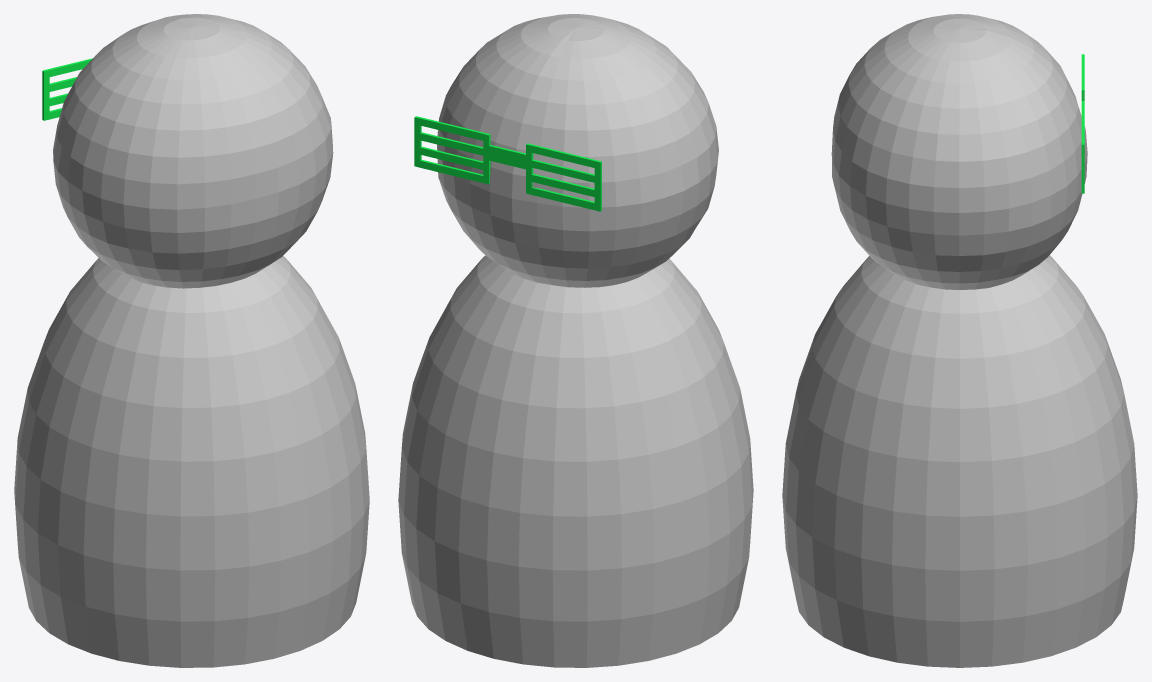
File: Cookie doll.fbx
3 renders of one model, left to right at view 1: azimuth 30°, elevation 25°; view 2: azimuth 150°, elevation 25°; view 3: azimuth 270°, elevation 25°, orthographic.
Parts seen in each view (by area): view 1: Sphere.001, Sphere; view 2: Sphere.001, Sphere, Cube.013, Cube.004, Cube.009, Cube.003, Cube.010, Cube.012, Cube.002, Cube.011, Cube.001; view 3: Sphere.001, Sphere.
Part boxes in pixels (x1,y1,x2,y2): Sphere.001: (14, 255, 369, 667); Sphere: (53, 14, 333, 288); Sphere.001: (398, 255, 753, 667); Sphere: (437, 14, 718, 287); Cube.013: (489, 145, 525, 169); Cube.004: (415, 116, 490, 140); Cube.009: (527, 143, 601, 167); Cube.003: (416, 159, 488, 184); Cube.010: (527, 187, 599, 211); Cube.012: (531, 159, 594, 182); Cube.002: (420, 146, 483, 169); Cube.011: (531, 174, 594, 196); Cube.001: (420, 132, 483, 155); Sphere.001: (782, 255, 1137, 667); Sphere: (831, 14, 1087, 289).
Bounding box in the file's own units: 200 × 354 × 200.
